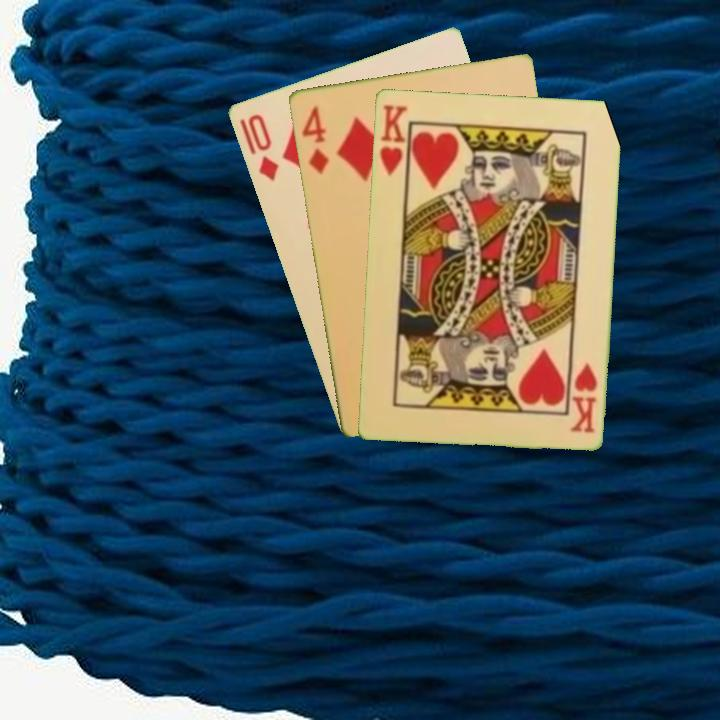10d: (235, 110, 281, 185)
4d: (298, 102, 332, 177)
Kh: (375, 100, 411, 184), (567, 359, 600, 435)
